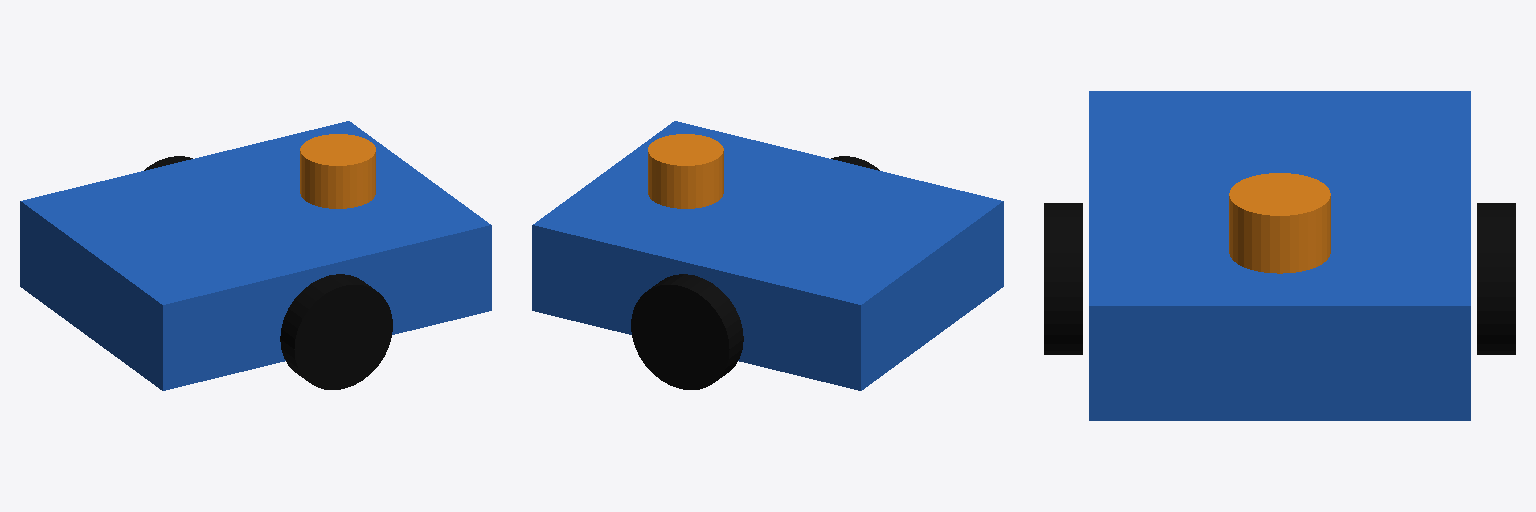
The robot description file, URDF, robot "diff_drive_robot":
<?xml version="1.0"?>
<robot name="diff_drive_robot">
  <link name="base_link">
    <visual>
      <origin xyz="0 0 0.08" rpy="0 0 0" />
      <geometry>
        <box size="0.4 0.3 0.1" />
      </geometry>
      <material name="base_link_material">
        <color rgba="0.2 0.45 0.8 1" />
      </material>
    </visual>
    <collision>
      <origin xyz="0 0 0.08" rpy="0 0 0" />
      <geometry>
        <box size="0.4 0.3 0.1" />
      </geometry>
    </collision>
    <inertial>
      <origin xyz="0 0 0.08" rpy="0 0 0" />
      <mass value="5" />
      <inertia ixx="0.0416666667" ixy="0" ixz="0" iyy="0.0708333333" iyz="0" izz="0.104166667" />
    </inertial>
  </link>
  <link name="left_wheel_link">
    <visual>
      <origin xyz="0 0 0" rpy="1.5707963 0 0" />
      <geometry>
        <cylinder radius="0.06" length="0.03" />
      </geometry>
      <material name="left_wheel_link_material">
        <color rgba="0.1 0.1 0.1 1" />
      </material>
    </visual>
    <collision>
      <origin xyz="0 0 0" rpy="1.5707963 0 0" />
      <geometry>
        <cylinder radius="0.06" length="0.03" />
      </geometry>
    </collision>
    <inertial>
      <origin xyz="0 0 0" rpy="1.5707963 0 0" />
      <mass value="0.4" />
      <inertia ixx="0.00039" ixy="0" ixz="0" iyy="0.00039" iyz="0" izz="0.00072" />
    </inertial>
  </link>
  <link name="right_wheel_link">
    <visual>
      <origin xyz="0 0 0" rpy="1.5707963 0 0" />
      <geometry>
        <cylinder radius="0.06" length="0.03" />
      </geometry>
      <material name="right_wheel_link_material">
        <color rgba="0.1 0.1 0.1 1" />
      </material>
    </visual>
    <collision>
      <origin xyz="0 0 0" rpy="1.5707963 0 0" />
      <geometry>
        <cylinder radius="0.06" length="0.03" />
      </geometry>
    </collision>
    <inertial>
      <origin xyz="0 0 0" rpy="1.5707963 0 0" />
      <mass value="0.4" />
      <inertia ixx="0.00039" ixy="0" ixz="0" iyy="0.00039" iyz="0" izz="0.00072" />
    </inertial>
  </link>
  <link name="caster_link">
    <visual>
      <origin xyz="0 0 0" rpy="0 0 0" />
      <geometry>
        <sphere radius="0.03" />
      </geometry>
      <material name="caster_link_material">
        <color rgba="0.25 0.65 0.35 1" />
      </material>
    </visual>
    <collision>
      <origin xyz="0 0 0" rpy="0 0 0" />
      <geometry>
        <sphere radius="0.03" />
      </geometry>
    </collision>
    <inertial>
      <origin xyz="0 0 0" rpy="0 0 0" />
      <mass value="0.1" />
      <inertia ixx="3.6e-05" ixy="0" ixz="0" iyy="3.6e-05" iyz="0" izz="3.6e-05" />
    </inertial>
  </link>
  <link name="lidar_link">
    <visual>
      <origin xyz="0 0 0" rpy="0 0 0" />
      <geometry>
        <cylinder radius="0.04" length="0.05" />
      </geometry>
      <material name="lidar_link_material">
        <color rgba="0.9 0.55 0.15 1" />
      </material>
    </visual>
    <collision>
      <origin xyz="0 0 0" rpy="0 0 0" />
      <geometry>
        <cylinder radius="0.04" length="0.05" />
      </geometry>
    </collision>
    <inertial>
      <origin xyz="0 0 0" rpy="0 0 0" />
      <mass value="0.2" />
      <inertia ixx="0.000121666667" ixy="0" ixz="0" iyy="0.000121666667" iyz="0" izz="0.00016" />
    </inertial>
  </link>
  <joint name="left_wheel_joint" type="continuous">
    <parent link="base_link" />
    <child link="left_wheel_link" />
    <origin xyz="0 0.17 0.06" rpy="0 0 0" />
    <axis xyz="0 1 0" />
    <limit effort="5" velocity="15" />
  </joint>
  <joint name="right_wheel_joint" type="continuous">
    <parent link="base_link" />
    <child link="right_wheel_link" />
    <origin xyz="0 -0.17 0.06" rpy="0 0 0" />
    <axis xyz="0 1 0" />
    <limit effort="5" velocity="15" />
  </joint>
  <joint name="caster_joint" type="fixed">
    <parent link="base_link" />
    <child link="caster_link" />
    <origin xyz="-0.15 0 0.03" rpy="0 0 0" />
  </joint>
  <joint name="lidar_joint" type="fixed">
    <parent link="base_link" />
    <child link="lidar_link" />
    <origin xyz="0.1 0 0.155" rpy="0 0 0" />
  </joint>
</robot>

--- What the picture shows (computed from the rendered views, not written in the file) ---
Views: 3 orthographic renders of the robot side by side, from view 1: azimuth 30°, elevation 25°; view 2: azimuth 150°, elevation 25°; view 3: azimuth 270°, elevation 25°.
Model diff_drive_robot with 5 links and 4 joints (2 continuous, 2 fixed), rooted at base_link, posed all joints at 0.
Links seen in each view (by area): view 1: base_link, right_wheel_link, lidar_link; view 2: base_link, left_wheel_link, lidar_link; view 3: base_link, lidar_link, left_wheel_link, right_wheel_link.
Boxes of the visible links, x1=… form: base_link: x1=20, y1=121, x2=491, y2=390; right_wheel_link: x1=280, y1=274, x2=392, y2=389; lidar_link: x1=300, y1=134, x2=375, y2=208; base_link: x1=532, y1=121, x2=1003, y2=390; left_wheel_link: x1=631, y1=274, x2=743, y2=389; lidar_link: x1=648, y1=134, x2=723, y2=208; base_link: x1=1089, y1=91, x2=1470, y2=420; lidar_link: x1=1229, y1=173, x2=1330, y2=273; left_wheel_link: x1=1477, y1=203, x2=1515, y2=354; right_wheel_link: x1=1044, y1=203, x2=1082, y2=354.
Size in the robot's own frame: 0.4 by 0.37 by 0.18 metres.
Geometry: primitives only (box / cylinder / sphere), no mesh files.
